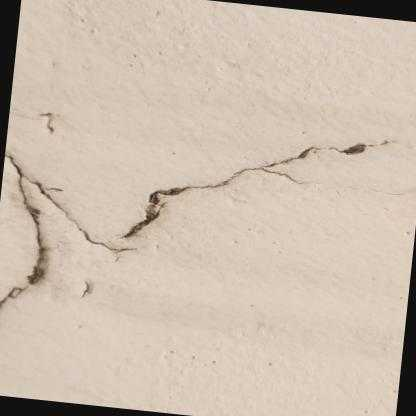crack: (123, 136, 389, 234), (0, 157, 125, 308)
